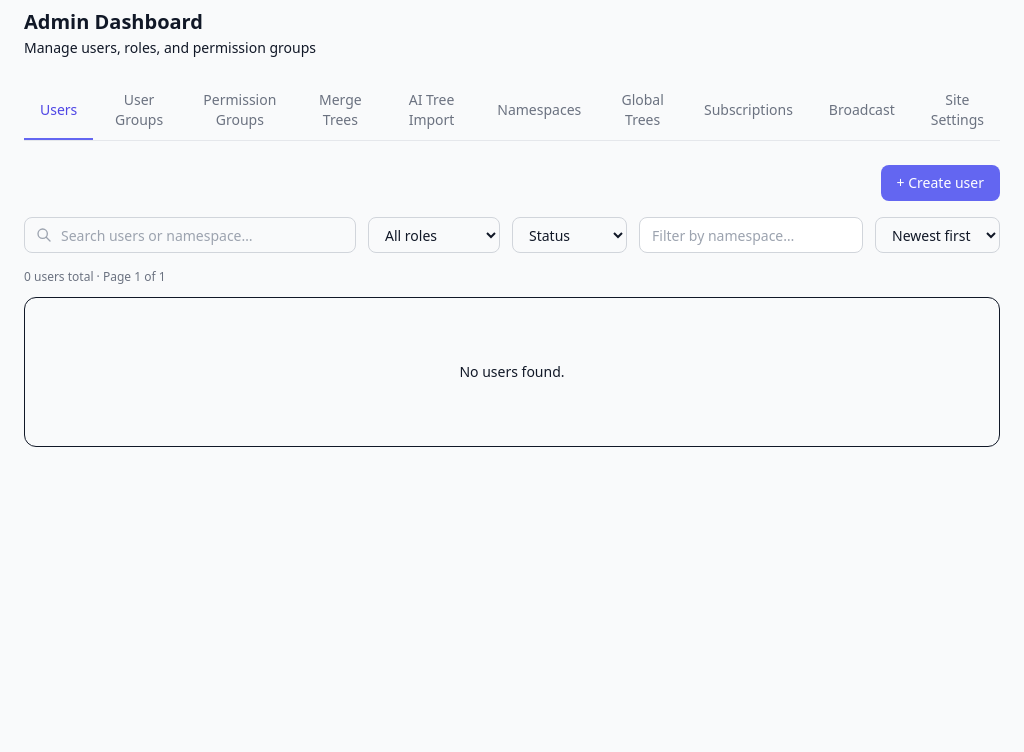
it: AdminPage — Broadcast email (async queueing) › shows "Sending…" for an in-progress broadcast and polls until it completes
Click the button "Broadcast" at [862, 111], box [813,82,911,140]
Wait 8000 ms
(page scrolled)
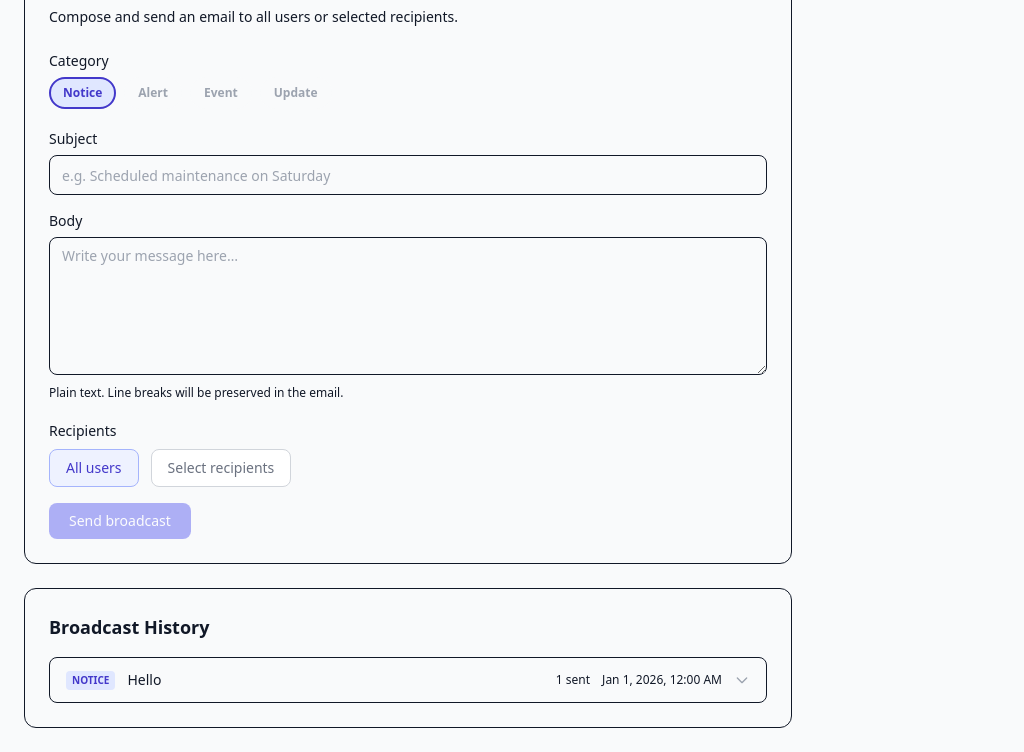
Expected: the text "1 sent" is shown, [556,672,590,688]
